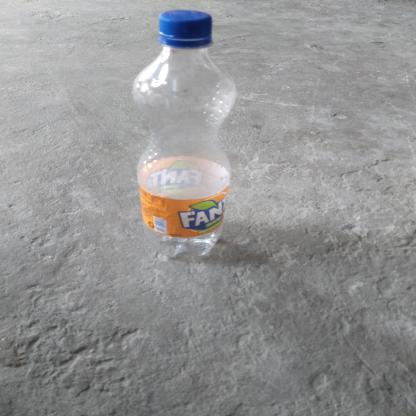bottle: (130, 9, 240, 261)
